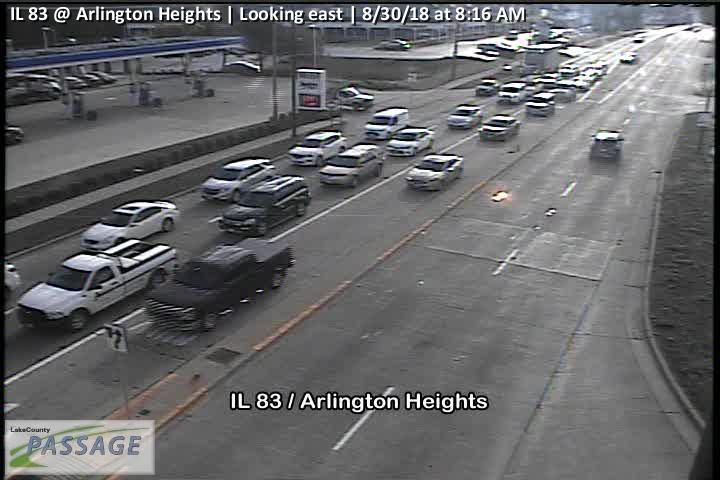SUV: (216, 177, 312, 240), (200, 159, 279, 203), (317, 144, 385, 187), (287, 129, 347, 167), (365, 105, 408, 140), (590, 129, 626, 158), (525, 92, 555, 116), (496, 81, 527, 103)
Sedan: (73, 198, 181, 250), (406, 153, 465, 190), (384, 126, 436, 159), (481, 113, 521, 142), (448, 105, 484, 130), (474, 79, 500, 97), (375, 41, 412, 51)
Truck: (14, 242, 178, 331), (143, 238, 294, 330)
